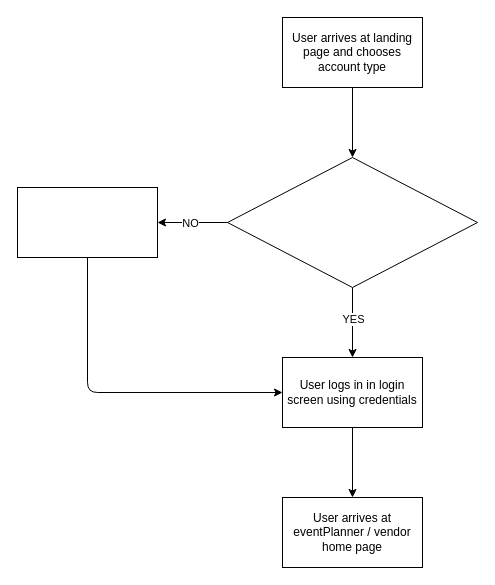
Image size: 495x585. Some labels were removed from this diagram. Here are the shapes that lost their labels. From the top down, the box of each, then its label:
(16, 186, 158, 258): User signs up in sign up form
(226, 156, 478, 288): Does user have account?
